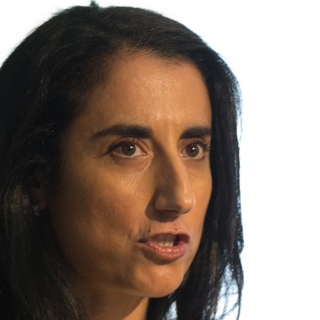eye: (103, 138, 150, 163), (179, 134, 212, 163)
